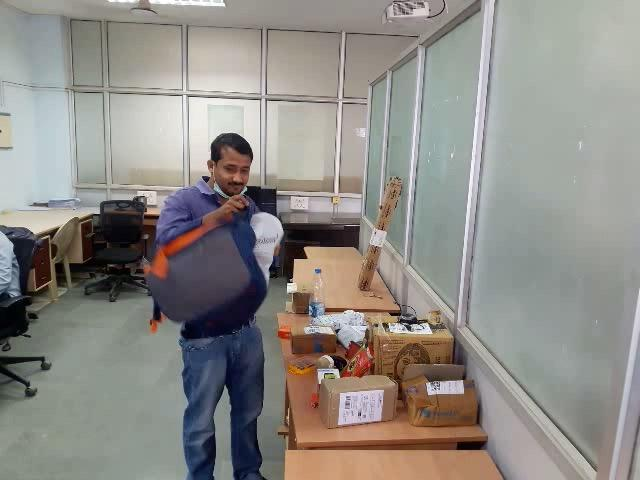shoplifting: (135, 191, 337, 377)
